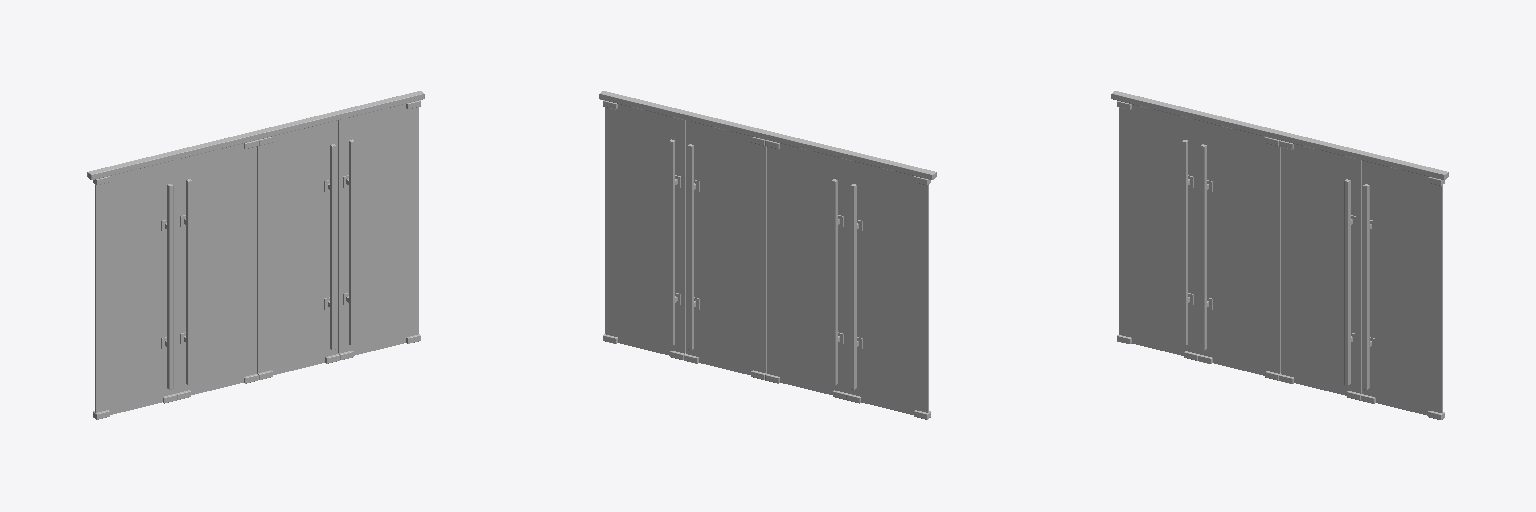
Rendered from glass_door01_obj.obj.
The picture shows the model from 3 angles: view 1: azimuth 30°, elevation 25°; view 2: azimuth 150°, elevation 25°; view 3: azimuth 330°, elevation 25°; orthographic projection.
Parts seen in each view (by area): view 1: Object004, ChamferBox002, ChamferBox001, ChamferBox003; view 2: Object004, ChamferBox002, ChamferBox001, ChamferBox003; view 3: Object004, ChamferBox002, ChamferBox001, ChamferBox003.
Boxes of the visible parts, box(x1,y1,x2,y2) form: Object004: box(95, 104, 418, 414); ChamferBox002: box(161, 139, 354, 389); ChamferBox001: box(87, 91, 424, 179); ChamferBox003: box(93, 100, 420, 419); Object004: box(605, 104, 928, 414); ChamferBox002: box(669, 139, 862, 389); ChamferBox001: box(599, 91, 936, 179); ChamferBox003: box(603, 100, 930, 419); Object004: box(1119, 104, 1442, 415); ChamferBox002: box(1182, 140, 1374, 389); ChamferBox001: box(1111, 91, 1448, 179); ChamferBox003: box(1117, 101, 1444, 419).
Size of the model in its own units: 123 by 87.1 by 7.57.